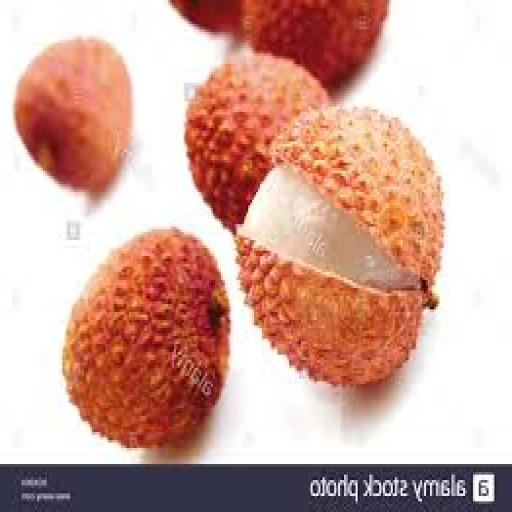lychee: (236, 110, 442, 383), (62, 230, 227, 447), (183, 54, 327, 229), (13, 38, 129, 194), (242, 0, 385, 85), (170, 0, 239, 31)
